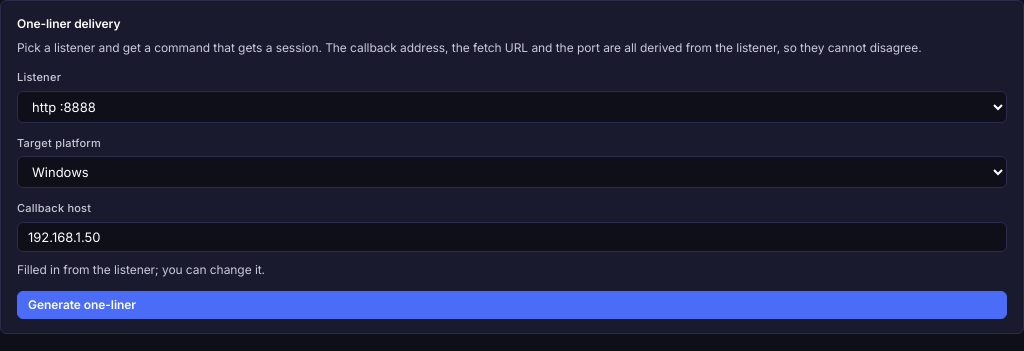
Scenario: OneLinerPanel listener selection › warns when the address in the field is a loopback address
Replace the text in the field showing "192.168.1.50" with "127.0.0.1" at (512, 236), box [17,222,1007,252]
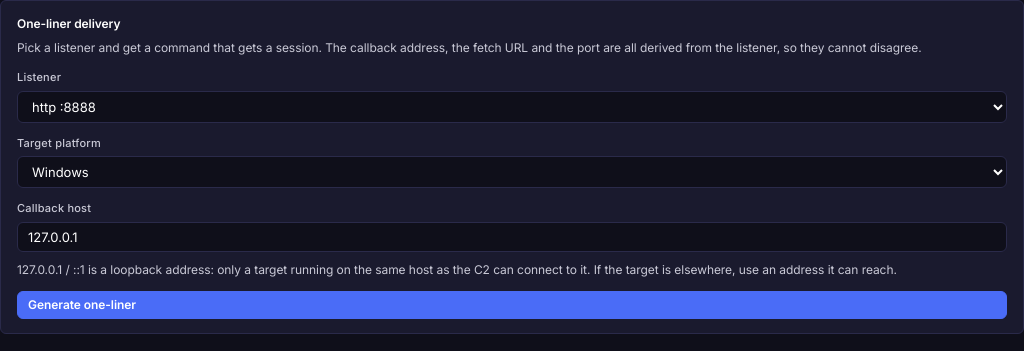
Check: the text "loopback address" is shown, box [17,262,897,276]
